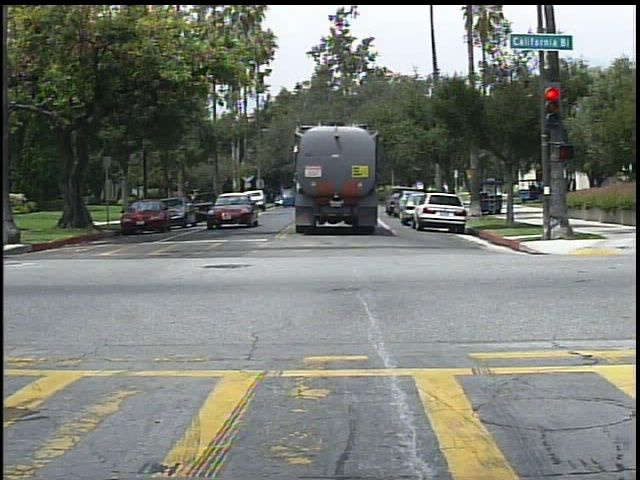person: (565, 171, 583, 203), (517, 180, 530, 200)
